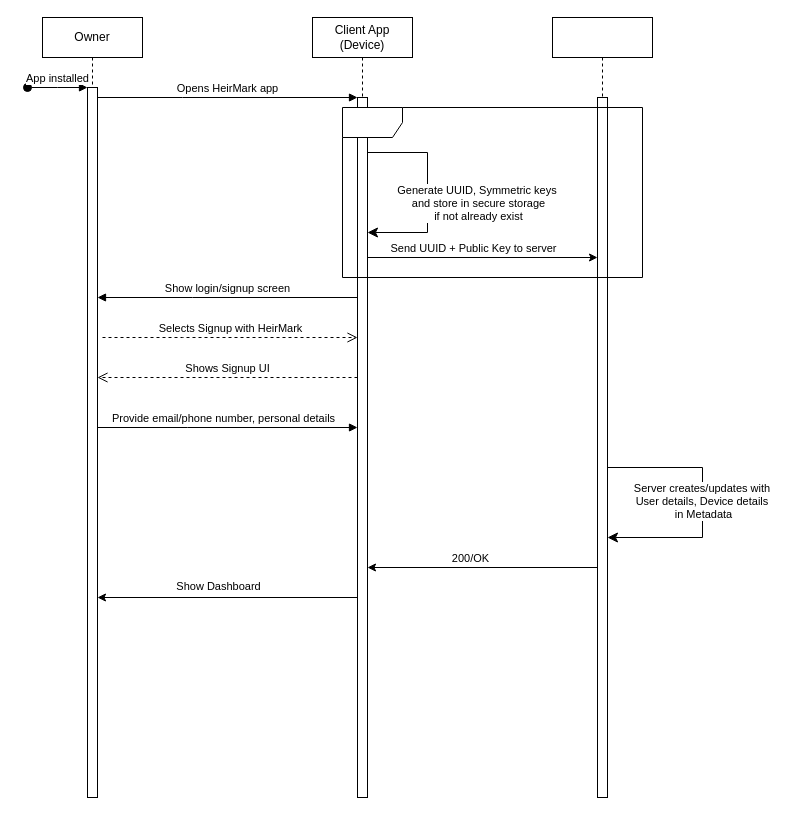
Some shapes in this 790 by 815 pixel diagram are drawn without their labels. Each missing label, with the box of its shape:
If not exist: (342, 106, 642, 278)
Server: (552, 16, 652, 798)
